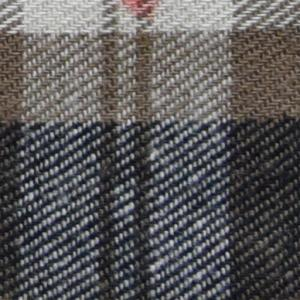Stain: (121, 1, 167, 28)
